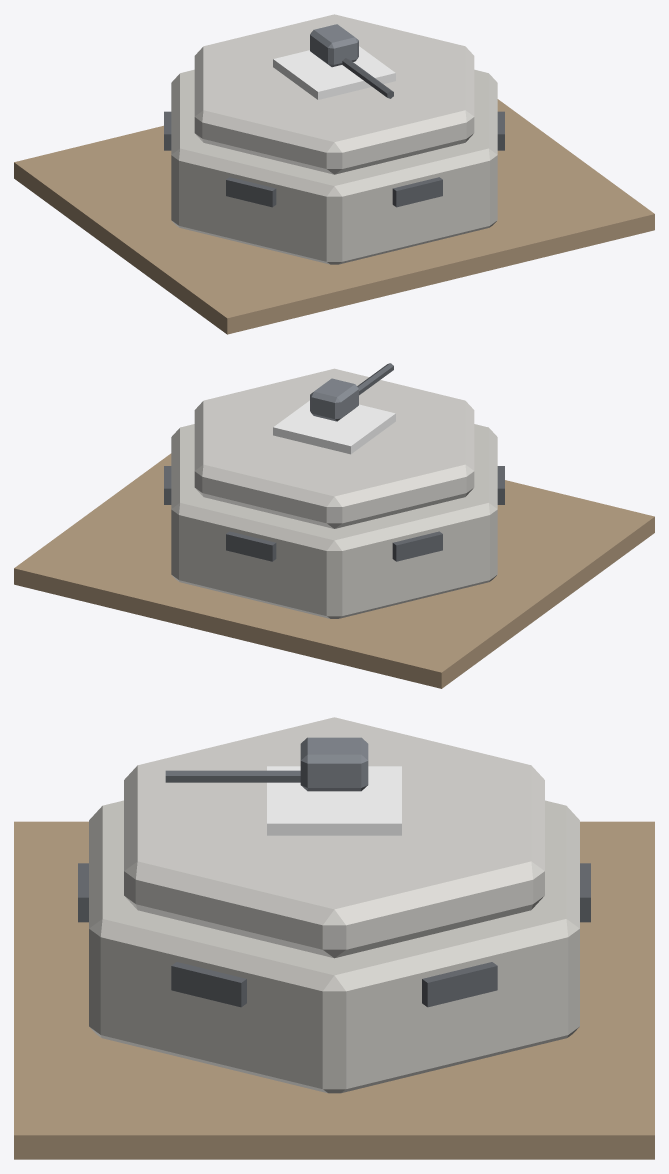
Rendered from bunker.glb.
3 views of the same model, one above another, from view 1: azimuth 30°, elevation 25°; view 2: azimuth 150°, elevation 25°; view 3: azimuth 270°, elevation 25° (orthographic). The views are drawn at different scales.
Parts seen in each view (by area): view 1: main, turret; view 2: main, turret; view 3: main, turret.
Boxes of the visible parts, x1,y1,x2,y2 form: main: (14,14,654,334); turret: (310,24,393,98); main: (14,368,654,688); turret: (310,363,393,421); main: (14,717,654,1159); turret: (165,737,368,791).
Size of the model in its own units: 1.1 by 0.42 by 0.95.
